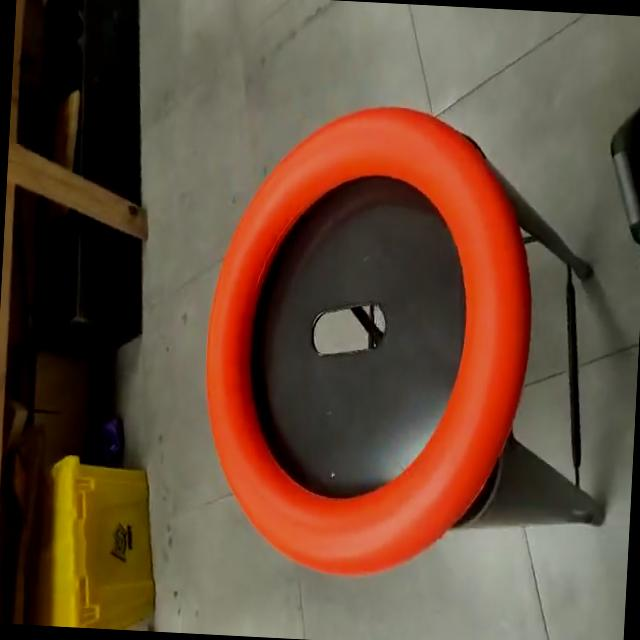note: (196, 102, 542, 578)
